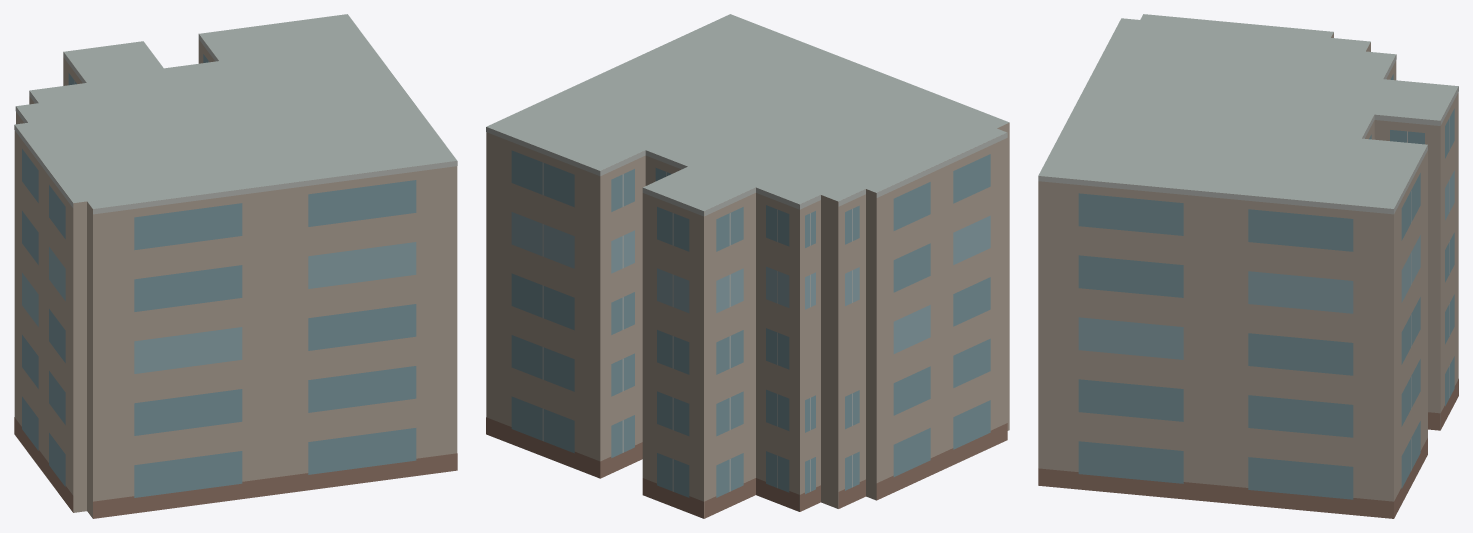
File: survey-upis-33003610.glb
The picture shows the model from 3 angles, left to right: view 1: azimuth 30°, elevation 25°; view 2: azimuth 150°, elevation 25°; view 3: azimuth 270°, elevation 25°; orthographic projection.
Visible parts, largest first — view 1: survey-upis-33003610.tmp; view 2: survey-upis-33003610.tmp; view 3: survey-upis-33003610.tmp.
Part boxes in pixels (x1,y1,x2,y2): survey-upis-33003610.tmp: [14, 14, 457, 518]; survey-upis-33003610.tmp: [486, 14, 1009, 518]; survey-upis-33003610.tmp: [1038, 14, 1458, 518].
Size of the model in its own units: 19.18 by 14.2 by 17.48.
